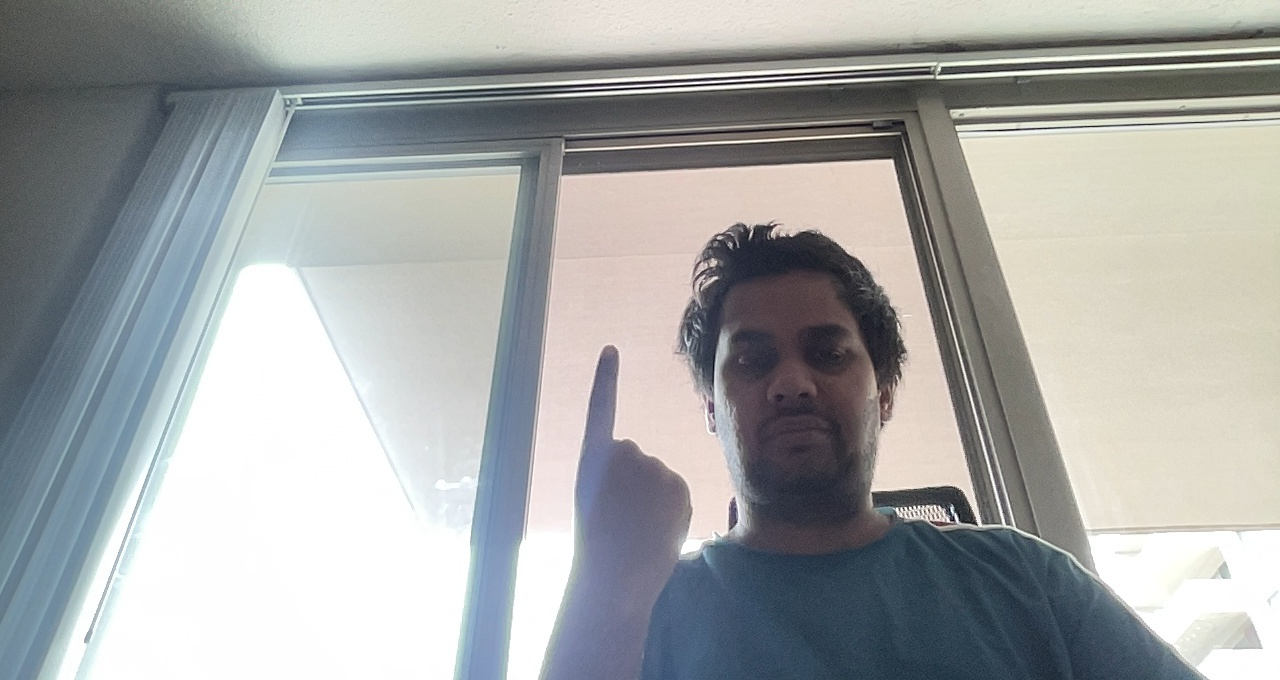fingerup: (565, 340, 697, 597)
